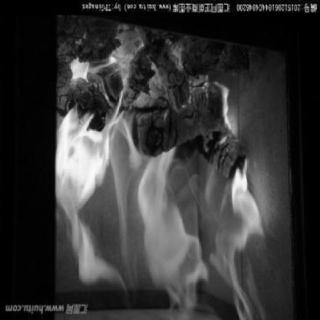Fire: (60, 27, 276, 317)
